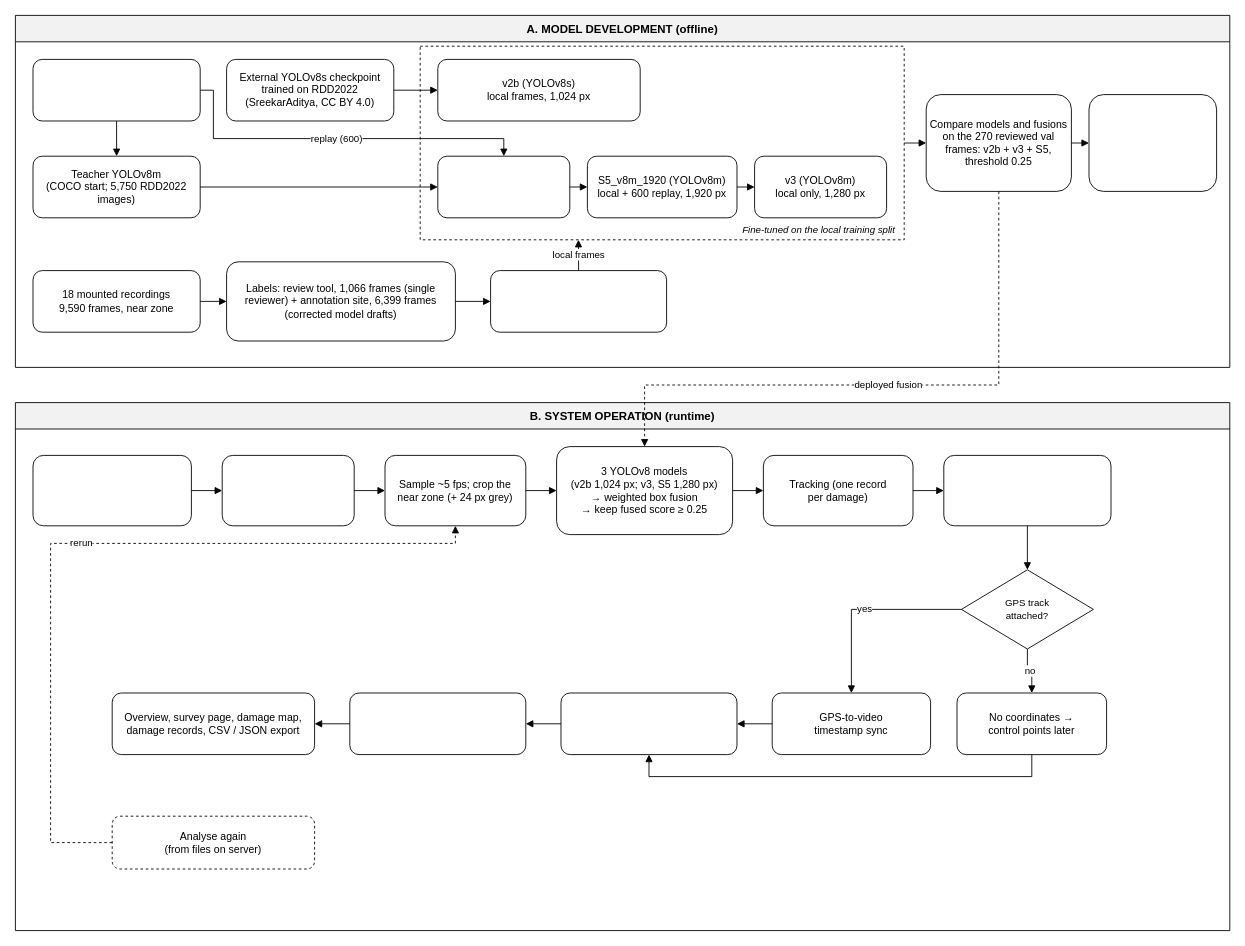
Some shapes in this 1245 by 946 pixel diagram are drawn without their labels. The shapes that lost their labels are listed below. From the top down, each one's box as (x1, y1, x2, y2) in pixels, then its label:
(32, 59, 200, 121): RDD2022, six countries (China_Drone excluded)
(1088, 94, 1217, 191): One test evaluation: fusion on the local test; each member on the foreign test
(437, 155, 570, 218): B v2 (YOLOv8m) local + 600 replay
(490, 270, 667, 332): Split by route group + 50 m rule: train / val / test
(32, 455, 191, 526): Phone app: video + GPS + road band; 590-s parts
(221, 455, 354, 526): Upload part (≤ 10 min, JWT)
(943, 455, 1111, 526): Fixed-spot filter (windshield reflections)
(349, 692, 526, 755): Store record + snapshot; annotate, ffmpeg H.264
(560, 692, 737, 755): Advisory AI check (CLIP): flag, never delete
